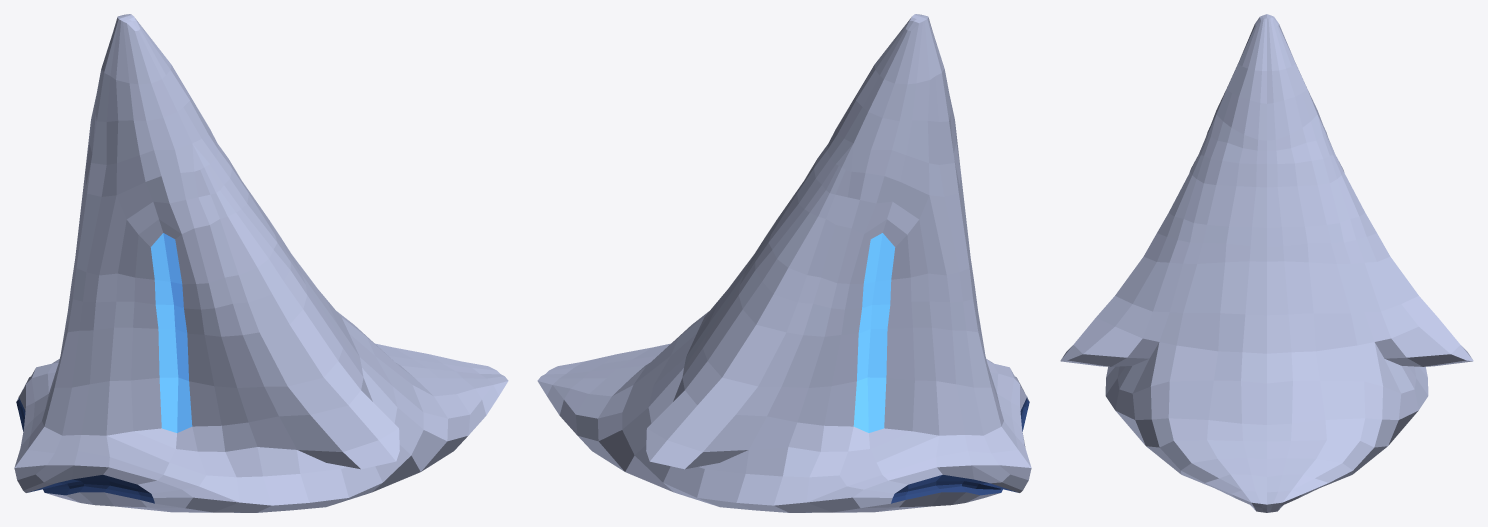
Rendered from StarGhost.fbx.
The picture shows the model from 3 angles, left to right: view 1: azimuth 30°, elevation 25°; view 2: azimuth 150°, elevation 25°; view 3: azimuth 270°, elevation 25°; orthographic projection. The views are drawn at different scales.
Parts seen in each view (by area): view 1: ghost2; view 2: ghost2; view 3: ghost2.
Part boxes in pixels (x1,y1,x2,y2): ghost2: (14,14,508,512); ghost2: (537,14,1031,512); ghost2: (1060,14,1473,512).
Size of the model in its own units: 41.38 by 38.72 by 39.46.
